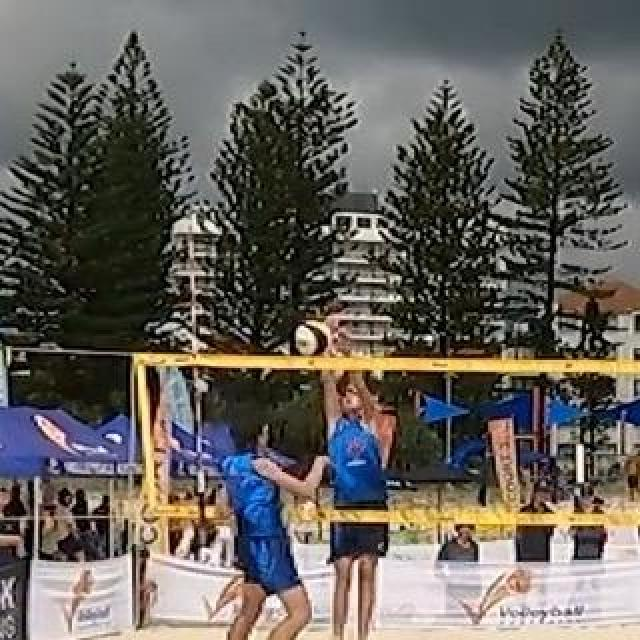volleyball: (295, 319, 331, 355)
